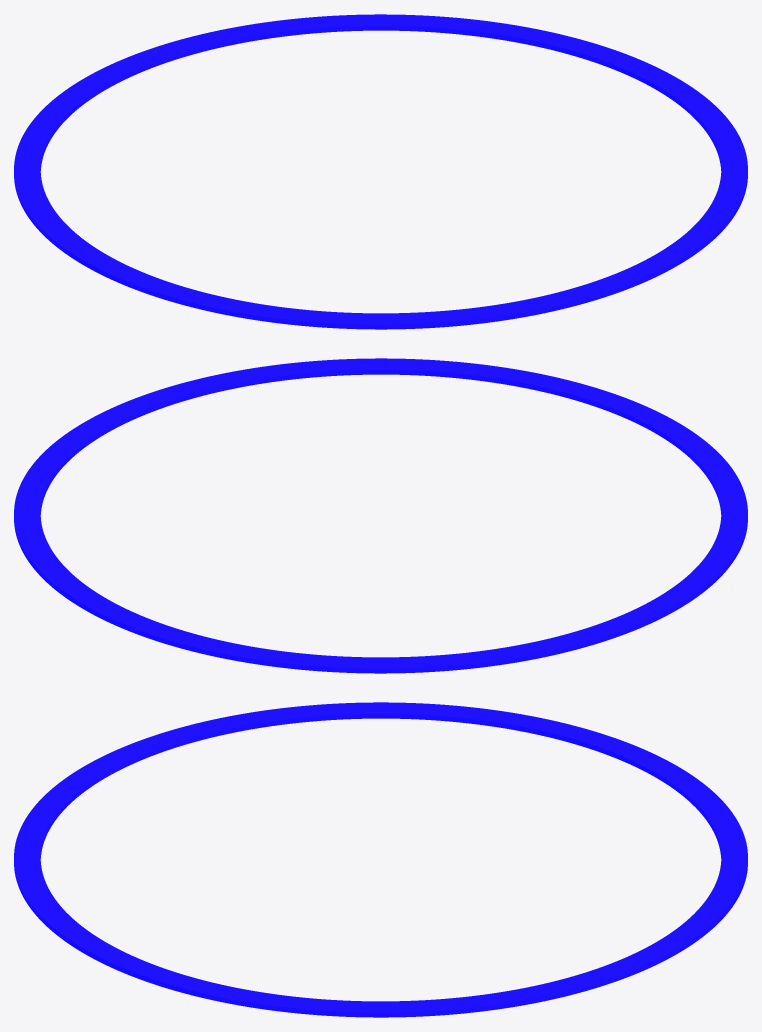
The model's file is ring3.glb.
The picture shows the model from 3 angles, top to bottom: view 1: azimuth 30°, elevation 25°; view 2: azimuth 150°, elevation 25°; view 3: azimuth 270°, elevation 25°; orthographic projection.
Visible parts, largest first — view 1: VisualSceneNode1.001; view 2: VisualSceneNode1.001; view 3: VisualSceneNode1.001.
Part boxes in pixels (x1,y1,x2,y2): VisualSceneNode1.001: [14, 14, 747, 329]; VisualSceneNode1.001: [14, 358, 747, 673]; VisualSceneNode1.001: [14, 702, 747, 1017].
Bounding box in the file's own units: 27.38 × 0.2 × 27.38.
